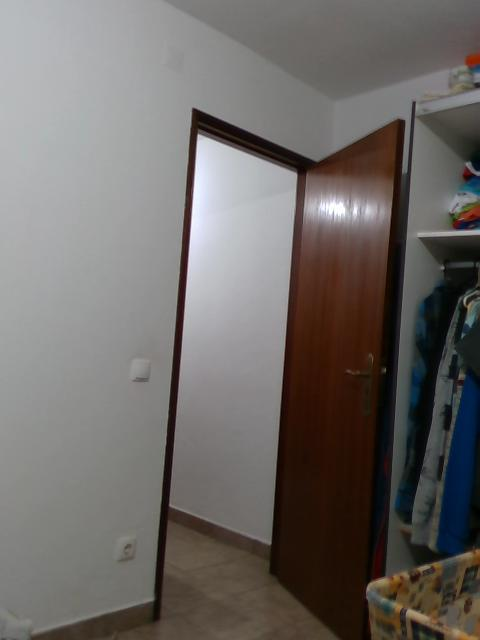open_door: (150, 100, 333, 622)
